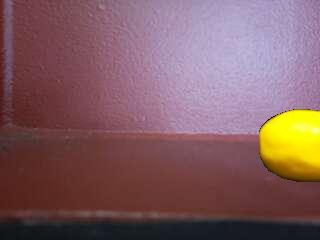Lemon: (256, 109, 320, 185)
